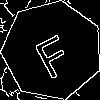F: (27, 25, 77, 81)
